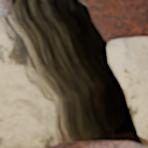brick: (51, 142, 144, 147)
broken_brick: (82, 0, 147, 41), (0, 0, 10, 18)
crack: (1, 0, 147, 147)
